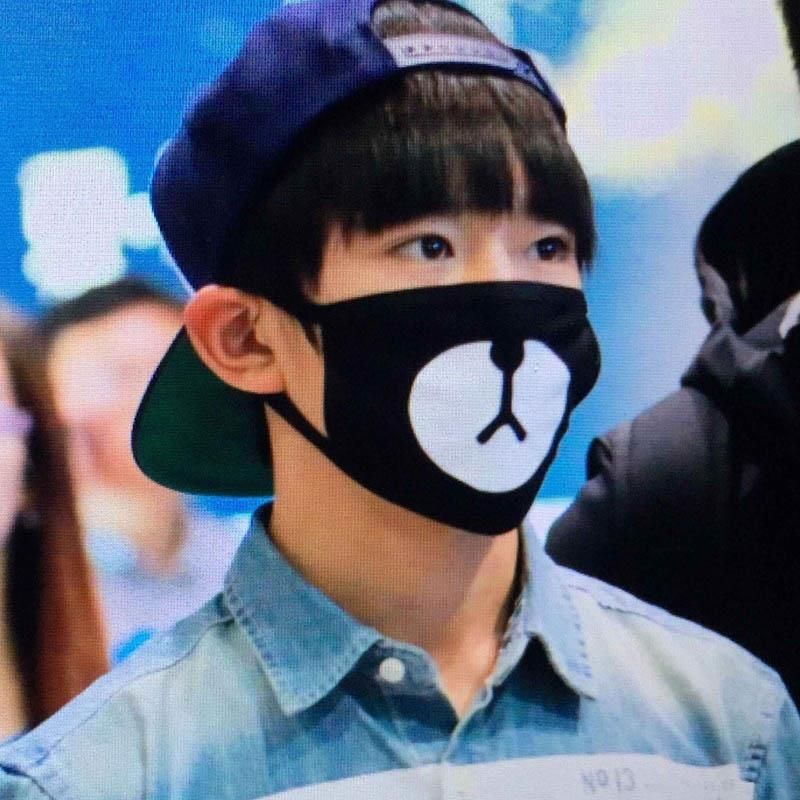face_mask: (305, 122, 579, 496)
